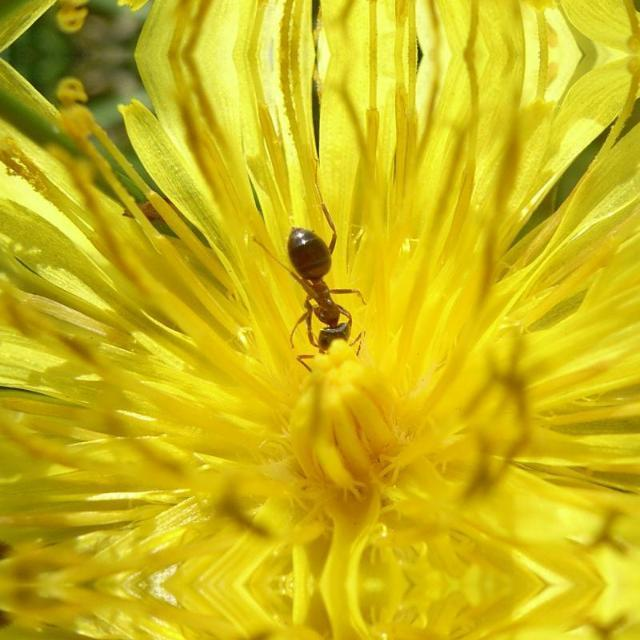Lasius: (261, 208, 387, 372)
